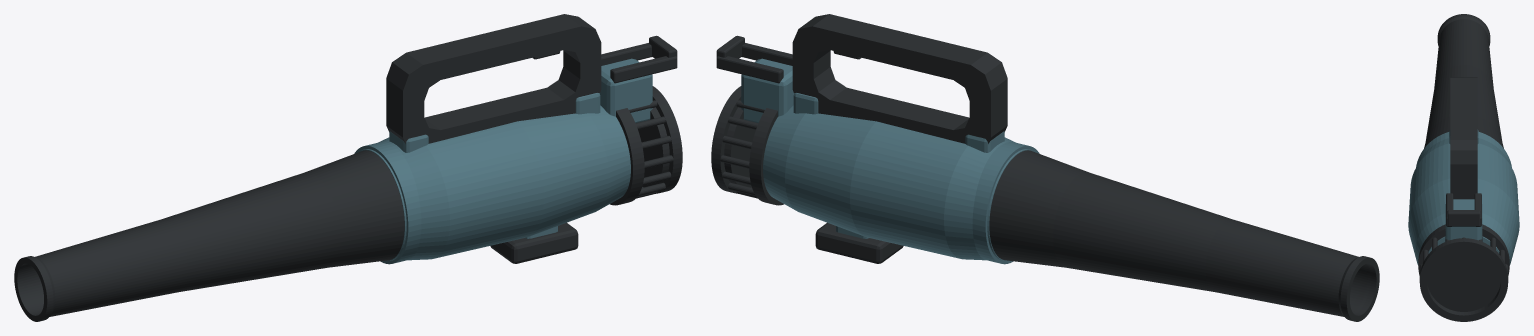
The model's file is full.glb.
3 renders of one model, left to right at view 1: azimuth 30°, elevation 25°; view 2: azimuth 150°, elevation 25°; view 3: azimuth 270°, elevation 25°, orthographic. The views are drawn at different scales.
Parts seen in each view (by area): view 1: Long tapered hollow nozzle, Coaxial bulbous fan housing, Long open upper arched handle, Nozzle seating collar, Raised empty battery mounting spine, Small lower resting foot, Rear intake forward collar, Rear intake outer collar, Generic recessed rear closure, Empty battery slide rail -0.02, Empty battery slide rail 0.02, Rear handle support (+1 smaller); view 2: Long tapered hollow nozzle, Coaxial bulbous fan housing, Long open upper arched handle, Nozzle seating collar, Raised empty battery mounting spine, Small lower resting foot, Rear intake forward collar, Rear intake outer collar, Generic recessed rear closure, Empty battery slide rail 0.02, Empty battery slide rail -0.02, Rear handle support (+1 smaller); view 3: Coaxial bulbous fan housing, Long tapered hollow nozzle, Generic recessed rear closure, Long open upper arched handle, Rear intake outer collar, Raised empty battery mounting spine, Rear intake forward collar, Battery rail end stop, Nozzle seating collar, Empty battery slide rail -0.02, Empty battery slide rail 0.02.
Part boxes in pixels (box(x1,y1,x2,y2)): Long tapered hollow nozzle: box(14, 150, 404, 321); Coaxial bulbous fan housing: box(358, 105, 630, 260); Long open upper arched handle: box(386, 14, 601, 143); Nozzle seating collar: box(354, 142, 421, 264); Raised empty battery mounting spine: box(600, 58, 652, 123); Small lower resting foot: box(490, 222, 578, 263); Rear intake forward collar: box(610, 108, 644, 205); Rear intake outer collar: box(652, 86, 682, 193); Generic recessed rear closure: box(638, 107, 669, 187); Empty battery slide rail -0.02: box(610, 56, 677, 83); Empty battery slide rail 0.02: box(601, 43, 651, 65); Rear handle support: box(575, 93, 600, 114); Long tapered hollow nozzle: box(989, 150, 1379, 321); Coaxial bulbous fan housing: box(763, 105, 1035, 260); Long open upper arched handle: box(792, 14, 1007, 143); Nozzle seating collar: box(972, 142, 1039, 264); Raised empty battery mounting spine: box(741, 58, 793, 123); Small lower resting foot: box(815, 222, 903, 263); Rear intake forward collar: box(749, 108, 783, 205); Rear intake outer collar: box(711, 86, 741, 193); Generic recessed rear closure: box(724, 107, 755, 187); Empty battery slide rail 0.02: box(716, 56, 783, 83); Empty battery slide rail -0.02: box(742, 43, 792, 65); Rear handle support: box(793, 93, 818, 114); Coaxial bulbous fan housing: box(1408, 138, 1519, 265); Long tapered hollow nozzle: box(1424, 14, 1503, 148); Generic recessed rear closure: box(1427, 248, 1500, 311); Long open upper arched handle: box(1450, 77, 1477, 199); Rear intake outer collar: box(1419, 238, 1508, 321); Raised empty battery mounting spine: box(1445, 199, 1482, 240); Rear intake forward collar: box(1418, 224, 1509, 275); Battery rail end stop: box(1447, 210, 1480, 226); Nozzle seating collar: box(1416, 132, 1511, 167); Empty battery slide rail -0.02: box(1446, 193, 1453, 226); Empty battery slide rail 0.02: box(1474, 193, 1481, 226).
Bounding box in the file's own units: 0.8255 × 0.2715 × 0.156.
